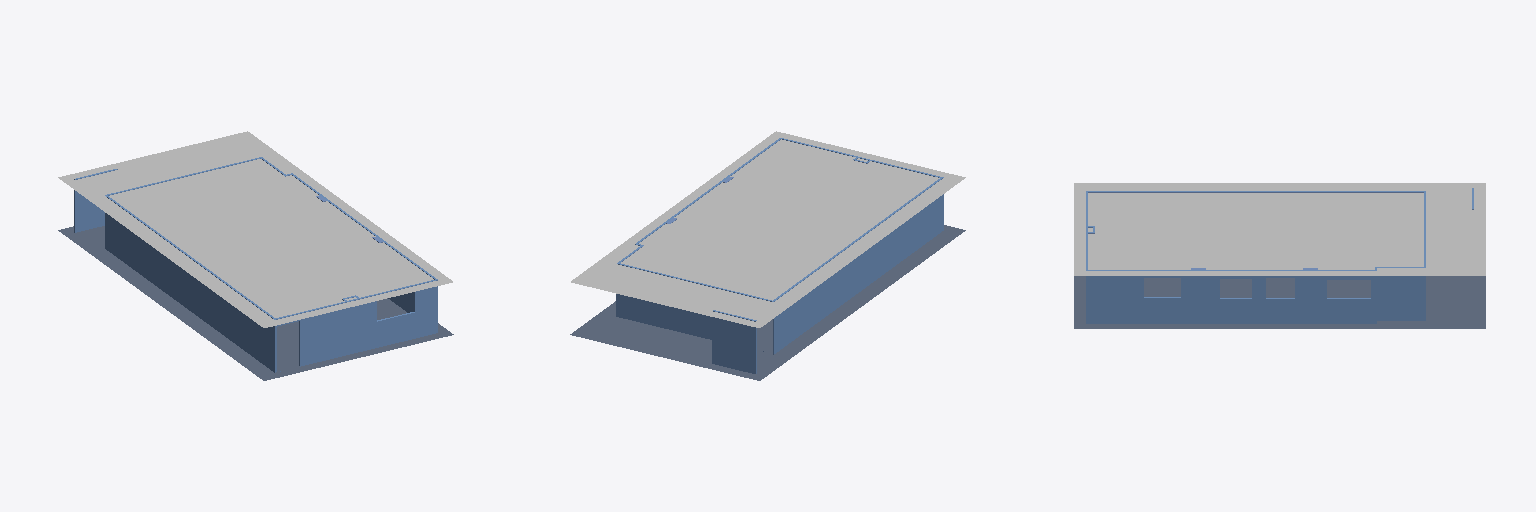
File: emptyroom.obj
3 views of the same model, side by side, from view 1: azimuth 30°, elevation 25°; view 2: azimuth 150°, elevation 25°; view 3: azimuth 270°, elevation 25° (orthographic).
Visible parts, largest first — view 1: emptyroom_Material.016, emptyroom_Material.013, emptyroom_Material.015; view 2: emptyroom_Material.016, emptyroom_Material.013, emptyroom_Material.015; view 3: emptyroom_Material.016, emptyroom_Material.013, emptyroom_Material.015.
Boxes of the visible parts, <box> form: emptyroom_Material.016: <box>58,131,452,327</box>; emptyroom_Material.013: <box>74,157,437,372</box>; emptyroom_Material.015: <box>58,226,453,380</box>; emptyroom_Material.016: <box>571,131,965,327</box>; emptyroom_Material.013: <box>616,138,943,373</box>; emptyroom_Material.015: <box>570,225,965,380</box>; emptyroom_Material.016: <box>1074,183,1485,275</box>; emptyroom_Material.013: <box>1086,188,1473,323</box>; emptyroom_Material.015: <box>1074,276,1485,328</box>.
Size of the model in its own units: 9.32 by 2.49 by 17.51.